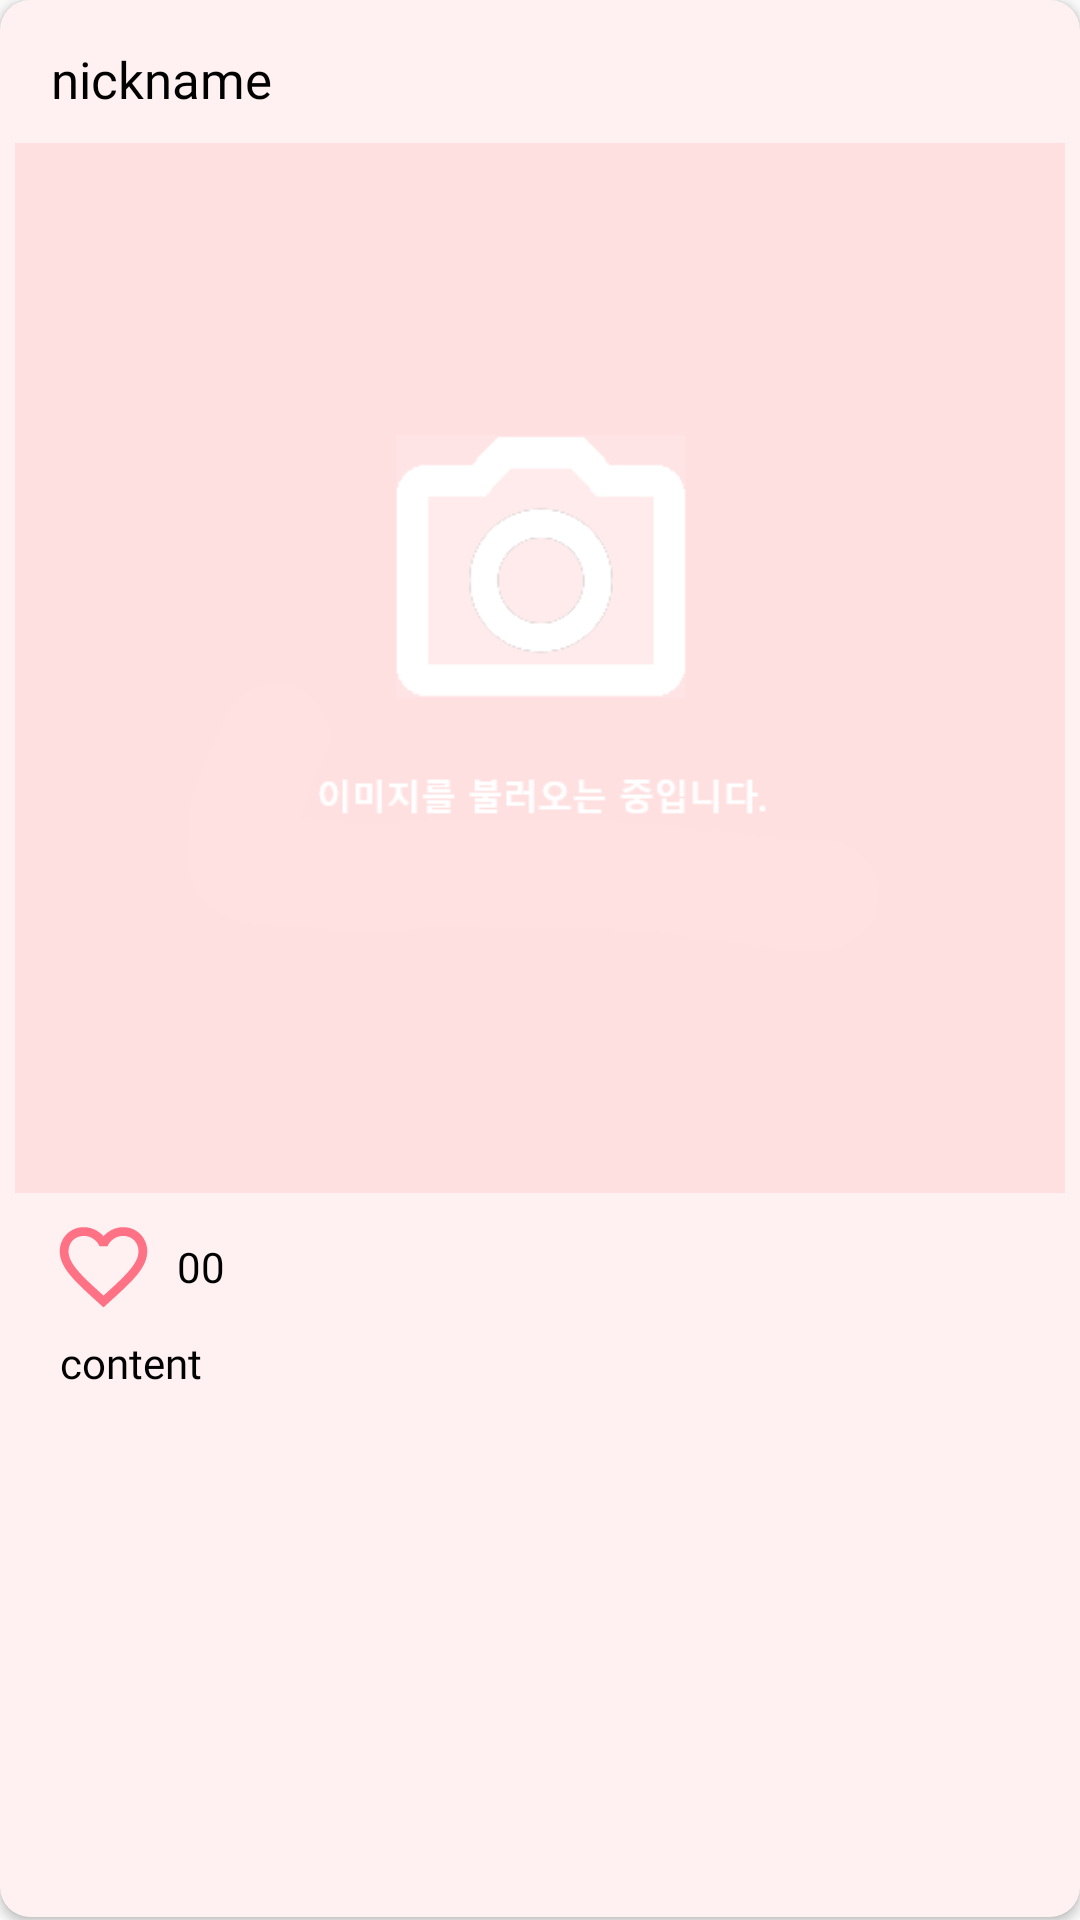

Icons on this 1080px×1920px Android screen, each with the point to tap as point (x, y):
favorite border: point (103, 1267)
